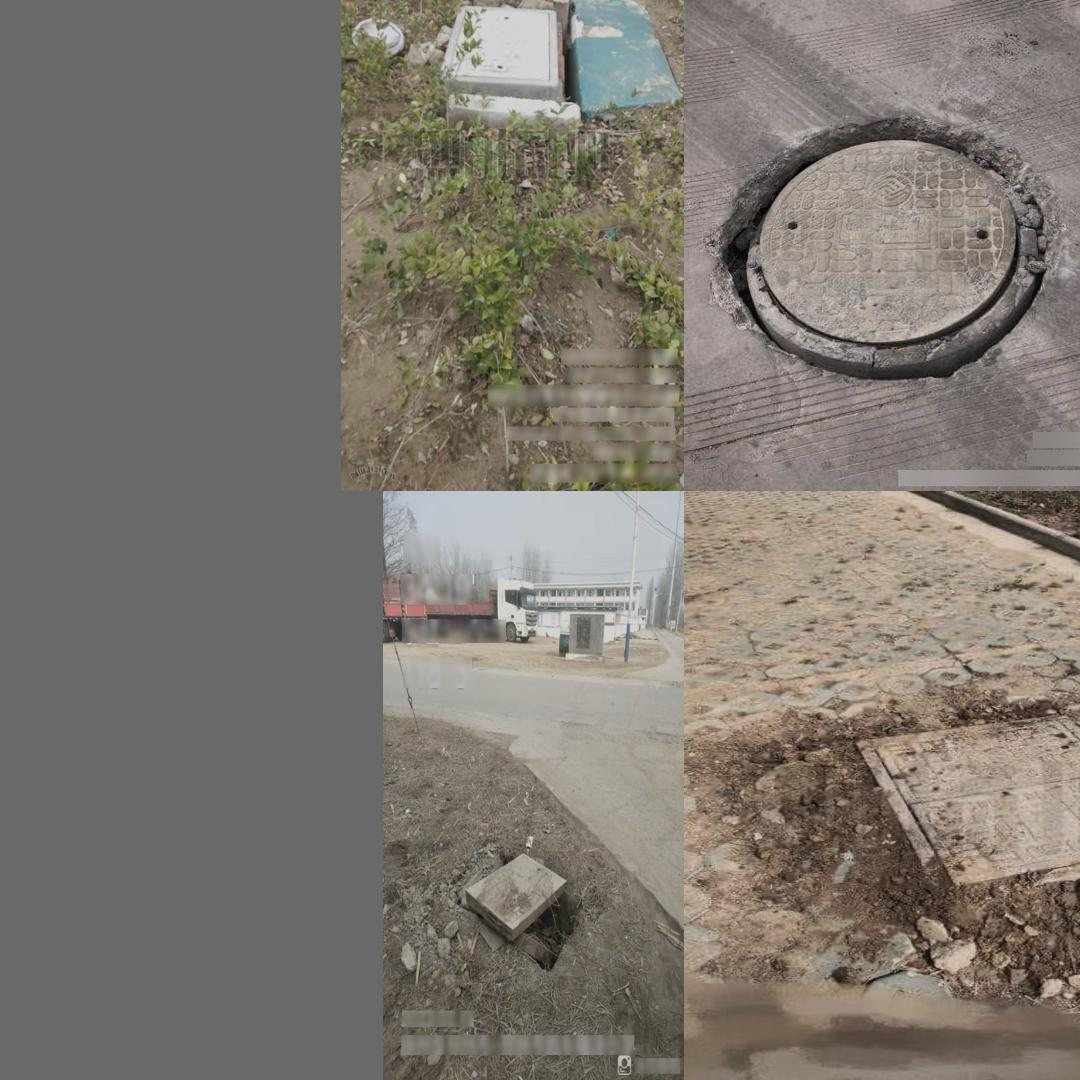circle: (723, 119, 1054, 386), (824, 710, 1080, 918), (449, 839, 589, 982), (431, 0, 583, 120)
